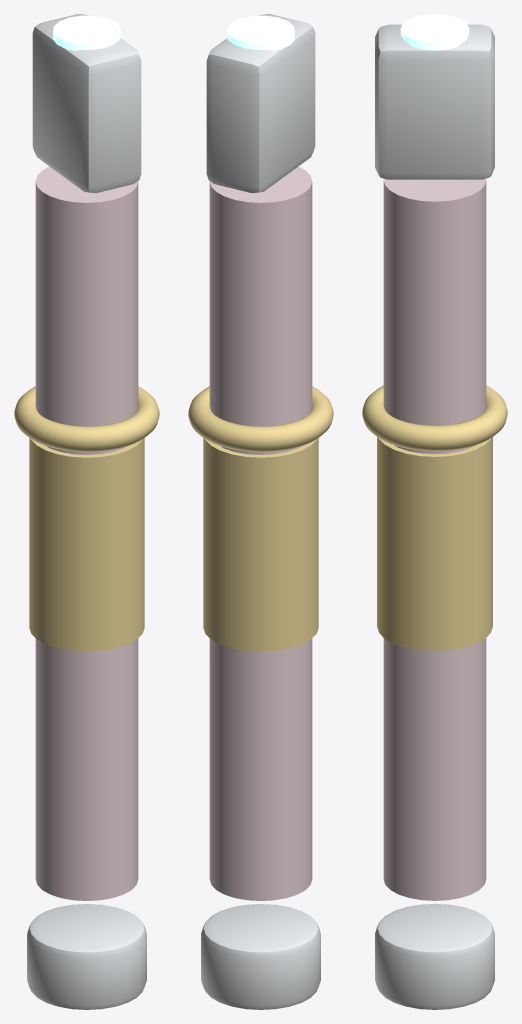
The model's file is magnetic-cat-eye-wand.glb.
3 views of the same model, side by side, from view 1: azimuth 30°, elevation 25°; view 2: azimuth 150°, elevation 25°; view 3: azimuth 270°, elevation 25° (orthographic).
Visible parts, largest first — view 1: wand_ErgonomicHandle, wand_GoldKnurledGrip, wand_BarMagnetHead, wand_CircleMagnetHead, wand_PolarRing, wand_MagneticAuraEmitter; view 2: wand_ErgonomicHandle, wand_GoldKnurledGrip, wand_BarMagnetHead, wand_CircleMagnetHead, wand_PolarRing, wand_MagneticAuraEmitter; view 3: wand_ErgonomicHandle, wand_GoldKnurledGrip, wand_BarMagnetHead, wand_CircleMagnetHead, wand_PolarRing, wand_MagneticAuraEmitter.
Part boxes in pixels (x1=…): wand_ErgonomicHandle: x1=35, y1=166, x2=138, y2=900; wand_GoldKnurledGrip: x1=29, y1=438, x2=144, y2=651; wand_BarMagnetHead: x1=32, y1=14, x2=141, y2=193; wand_CircleMagnetHead: x1=27, y1=904, x2=146, y2=1009; wand_PolarRing: x1=14, y1=386, x2=159, y2=451; wand_MagneticAuraEmitter: x1=53, y1=15, x2=120, y2=50; wand_ErgonomicHandle: x1=209, y1=166, x2=312, y2=900; wand_GoldKnurledGrip: x1=203, y1=438, x2=318, y2=651; wand_BarMagnetHead: x1=206, y1=14, x2=315, y2=193; wand_CircleMagnetHead: x1=201, y1=904, x2=320, y2=1009; wand_PolarRing: x1=188, y1=386, x2=333, y2=451; wand_MagneticAuraEmitter: x1=227, y1=15, x2=294, y2=50; wand_ErgonomicHandle: x1=383, y1=178, x2=486, y2=900; wand_GoldKnurledGrip: x1=377, y1=437, x2=492, y2=650; wand_BarMagnetHead: x1=375, y1=24, x2=494, y2=179; wand_CircleMagnetHead: x1=375, y1=904, x2=494, y2=1009; wand_PolarRing: x1=362, y1=385, x2=507, y2=451; wand_MagneticAuraEmitter: x1=400, y1=14, x2=469, y2=50.
Size of the model in its own units: 0.034 by 0.247 by 0.034.
